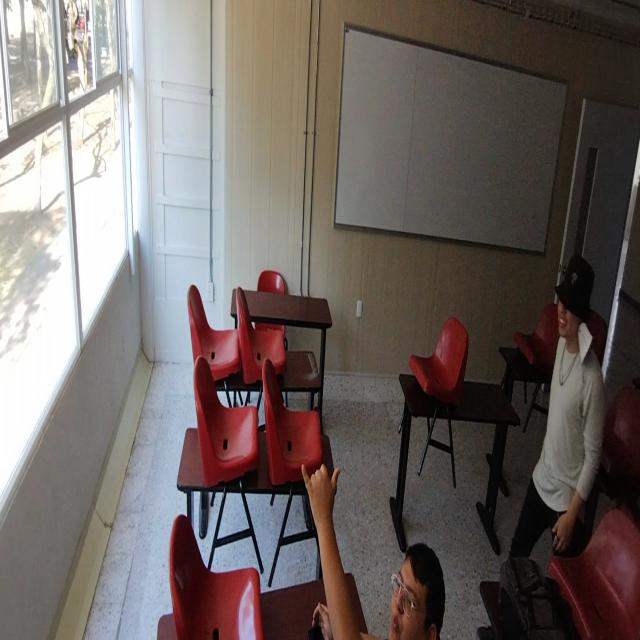adult: (508, 251, 602, 576), (298, 461, 447, 640)
